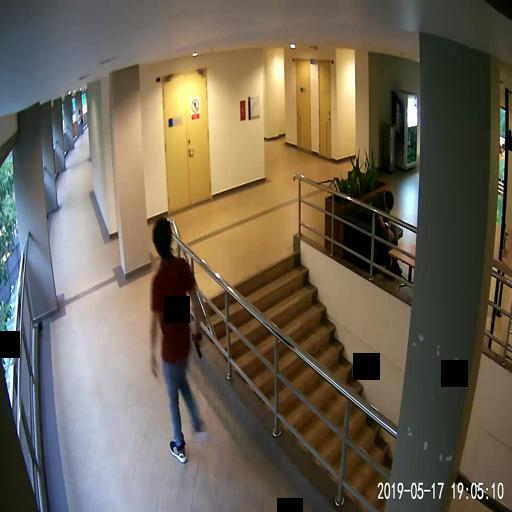Handgun: (191, 331, 201, 356)
